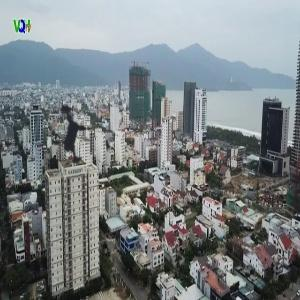drone: (17, 86, 123, 192)
